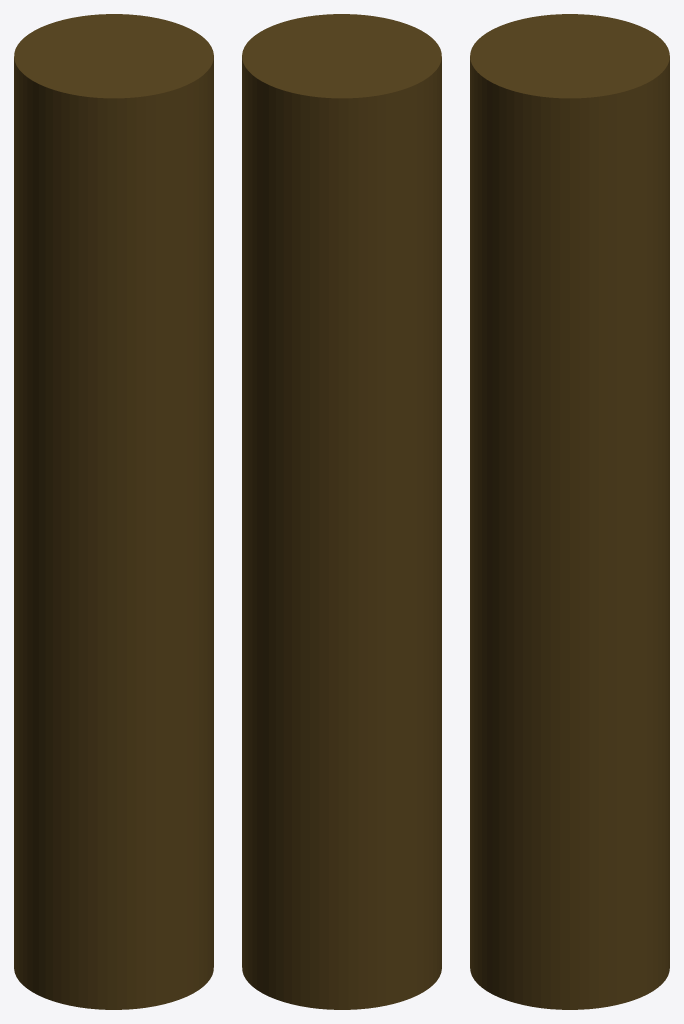
The model's file is Target.fbx.
3 views of the same model, side by side, from view 1: azimuth 30°, elevation 25°; view 2: azimuth 150°, elevation 25°; view 3: azimuth 270°, elevation 25° (orthographic).
Parts seen in each view (by area): view 1: Target; view 2: Target; view 3: Target.
Boxes of the visible parts, left/top/right/bottom form: Target: left=14, top=14, right=213, bottom=1009; Target: left=242, top=14, right=441, bottom=1009; Target: left=470, top=14, right=669, bottom=1009.
Bounding box in the file's own units: 39.75 × 200 × 39.75.
Materials: 1 (1 with a texture image).
